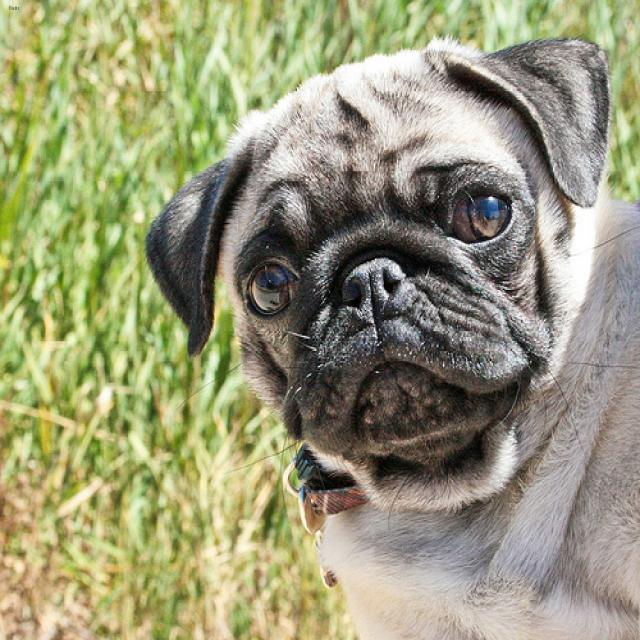dog-pug: (137, 30, 637, 637)
